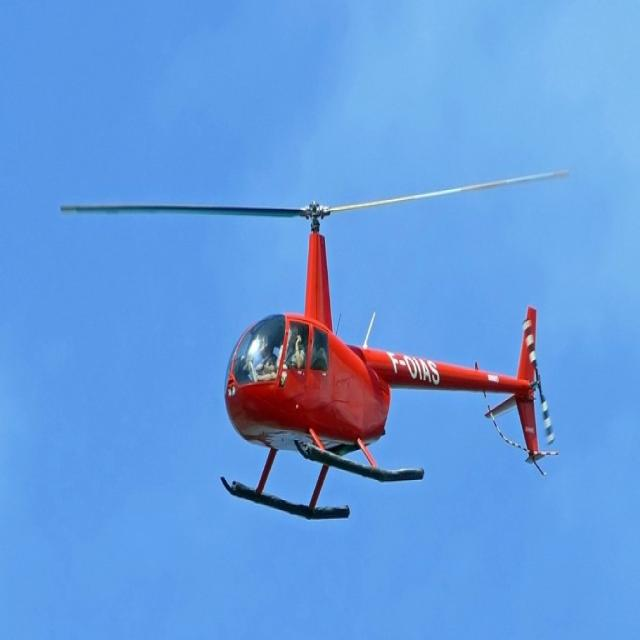CIV_HELO: (219, 196, 545, 524)
